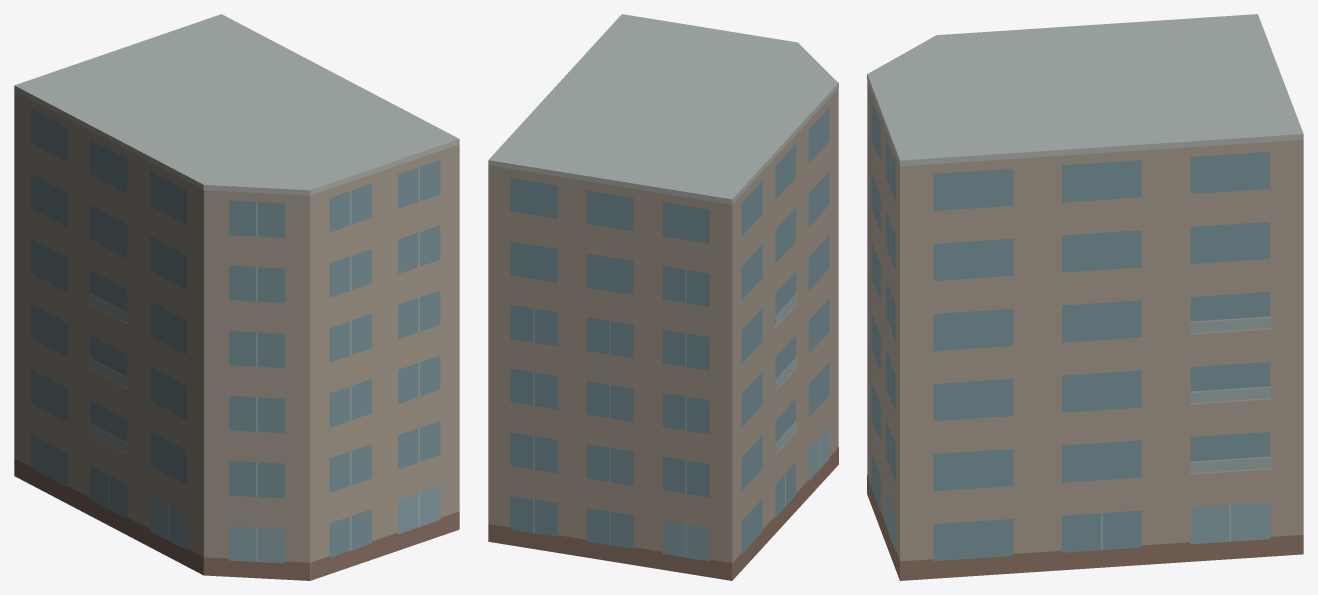
Rendered from survey-upis-33039833.glb.
The picture shows the model from 3 angles, left to right: view 1: azimuth 30°, elevation 25°; view 2: azimuth 150°, elevation 25°; view 3: azimuth 270°, elevation 25°; orthographic projection. The views are drawn at different scales.
Visible parts, largest first — view 1: survey-upis-33039833.tmp; view 2: survey-upis-33039833.tmp; view 3: survey-upis-33039833.tmp.
Part boxes in pixels (<box>): survey-upis-33039833.tmp: <box>14,14,459,580</box>; survey-upis-33039833.tmp: <box>488,14,838,580</box>; survey-upis-33039833.tmp: <box>867,14,1303,580</box>.
Bounding box in the file's own units: 13.32 × 17.8 × 16.76.
